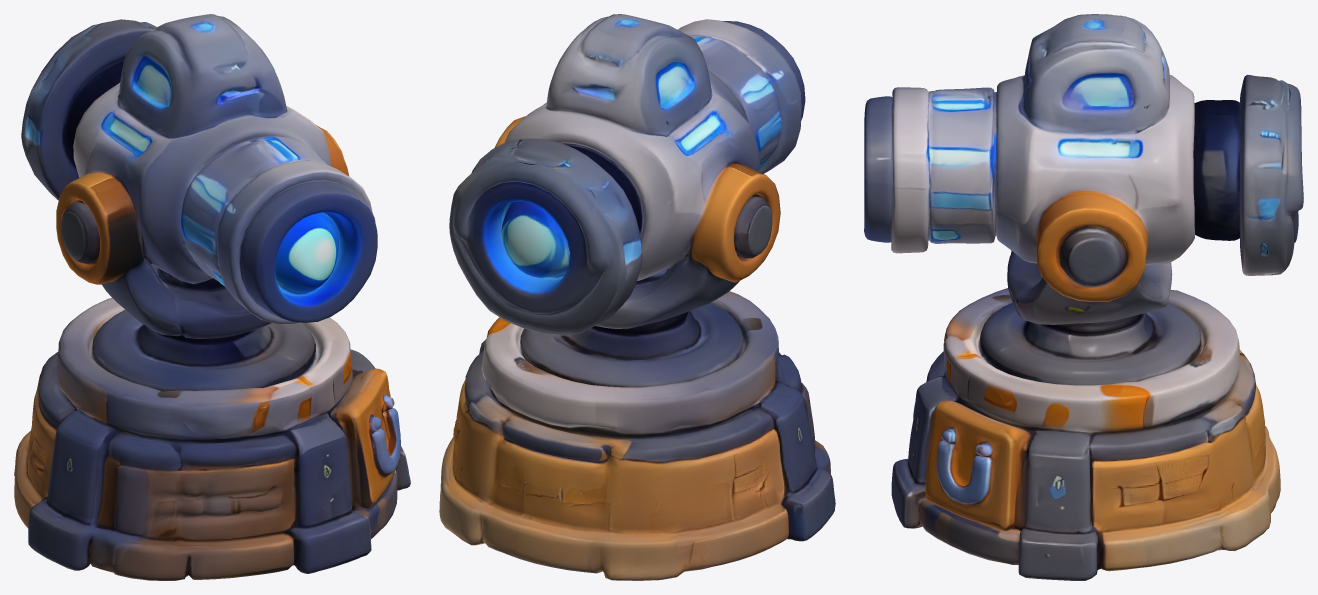
File: rail_gun_pbr.glb
3 renders of one model, left to right at view 1: azimuth 30°, elevation 25°; view 2: azimuth 150°, elevation 25°; view 3: azimuth 270°, elevation 25°, orthographic.
Parts seen in each view (by area): view 1: model; view 2: model; view 3: model.
Boxes of the visible parts, x1=… form: model: x1=14, y1=14, x2=410, y2=580; model: x1=439, y1=14, x2=835, y2=580; model: x1=864, y1=14, x2=1303, y2=580.
Size of the model in its own units: 1.47 by 1.9 by 1.6.
1 material, 1 textured.
